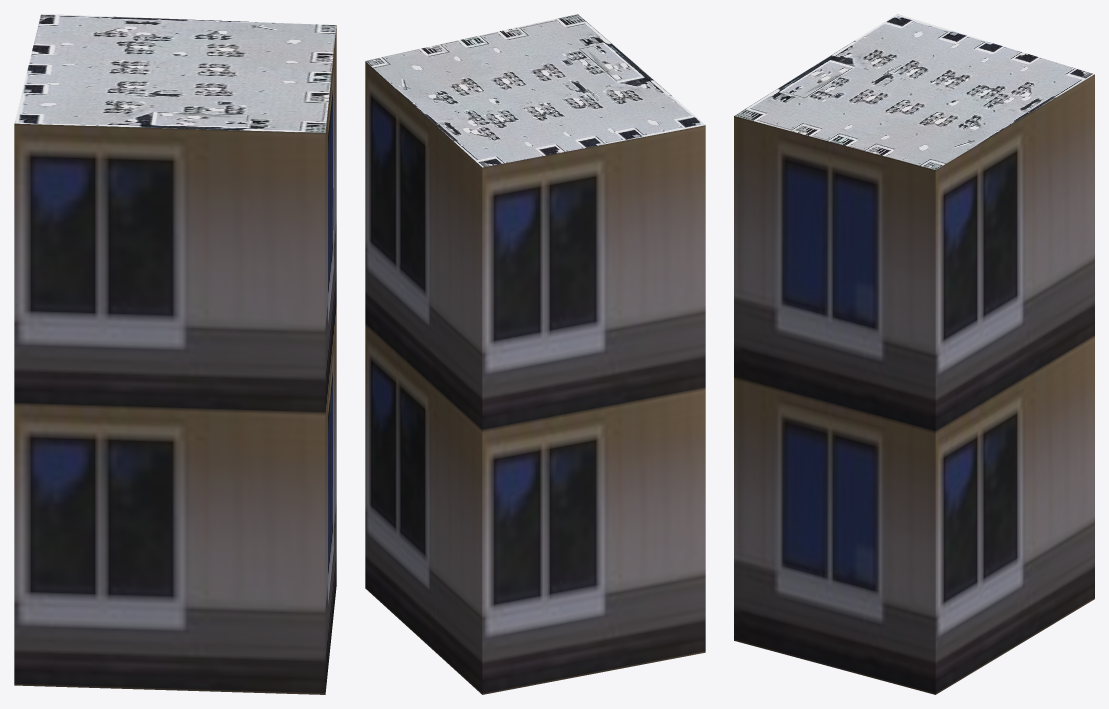
The model's file is ResTex__89.fbx.
3 views of the same model, side by side, from view 1: azimuth 30°, elevation 25°; view 2: azimuth 150°, elevation 25°; view 3: azimuth 270°, elevation 25° (orthographic). The views are drawn at different scales.
Parts seen in each view (by area): view 1: CityEngineMaterial_5_m, CityEngineMaterial_2_m; view 2: CityEngineMaterial_5_m, CityEngineMaterial_2_m; view 3: CityEngineMaterial_5_m, CityEngineMaterial_2_m.
Part boxes in pixels (x1,y1,x2,y2): CityEngineMaterial_5_m: (14, 25, 336, 694); CityEngineMaterial_2_m: (14, 14, 336, 132); CityEngineMaterial_5_m: (365, 61, 705, 694); CityEngineMaterial_2_m: (365, 14, 705, 167); CityEngineMaterial_5_m: (734, 74, 1094, 694); CityEngineMaterial_2_m: (734, 14, 1094, 169).
Bounding box in the file's own units: 3.83 × 6 × 3.74.
2 materials, 2 textured.
